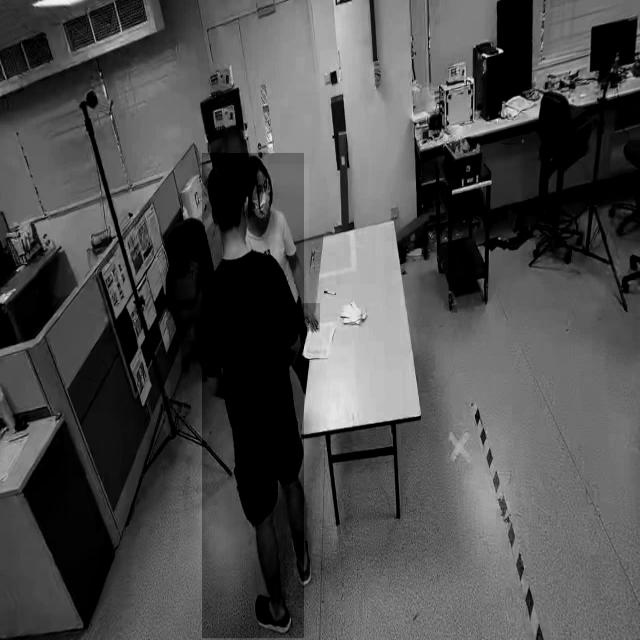face_mask: (249, 177, 273, 237)
hand_noglove: (302, 303, 320, 333)
head_nohelmet: (207, 157, 246, 191), (244, 154, 268, 177)
person: (202, 153, 304, 639), (239, 164, 309, 340)
shoes: (253, 588, 293, 633), (290, 525, 312, 587)
